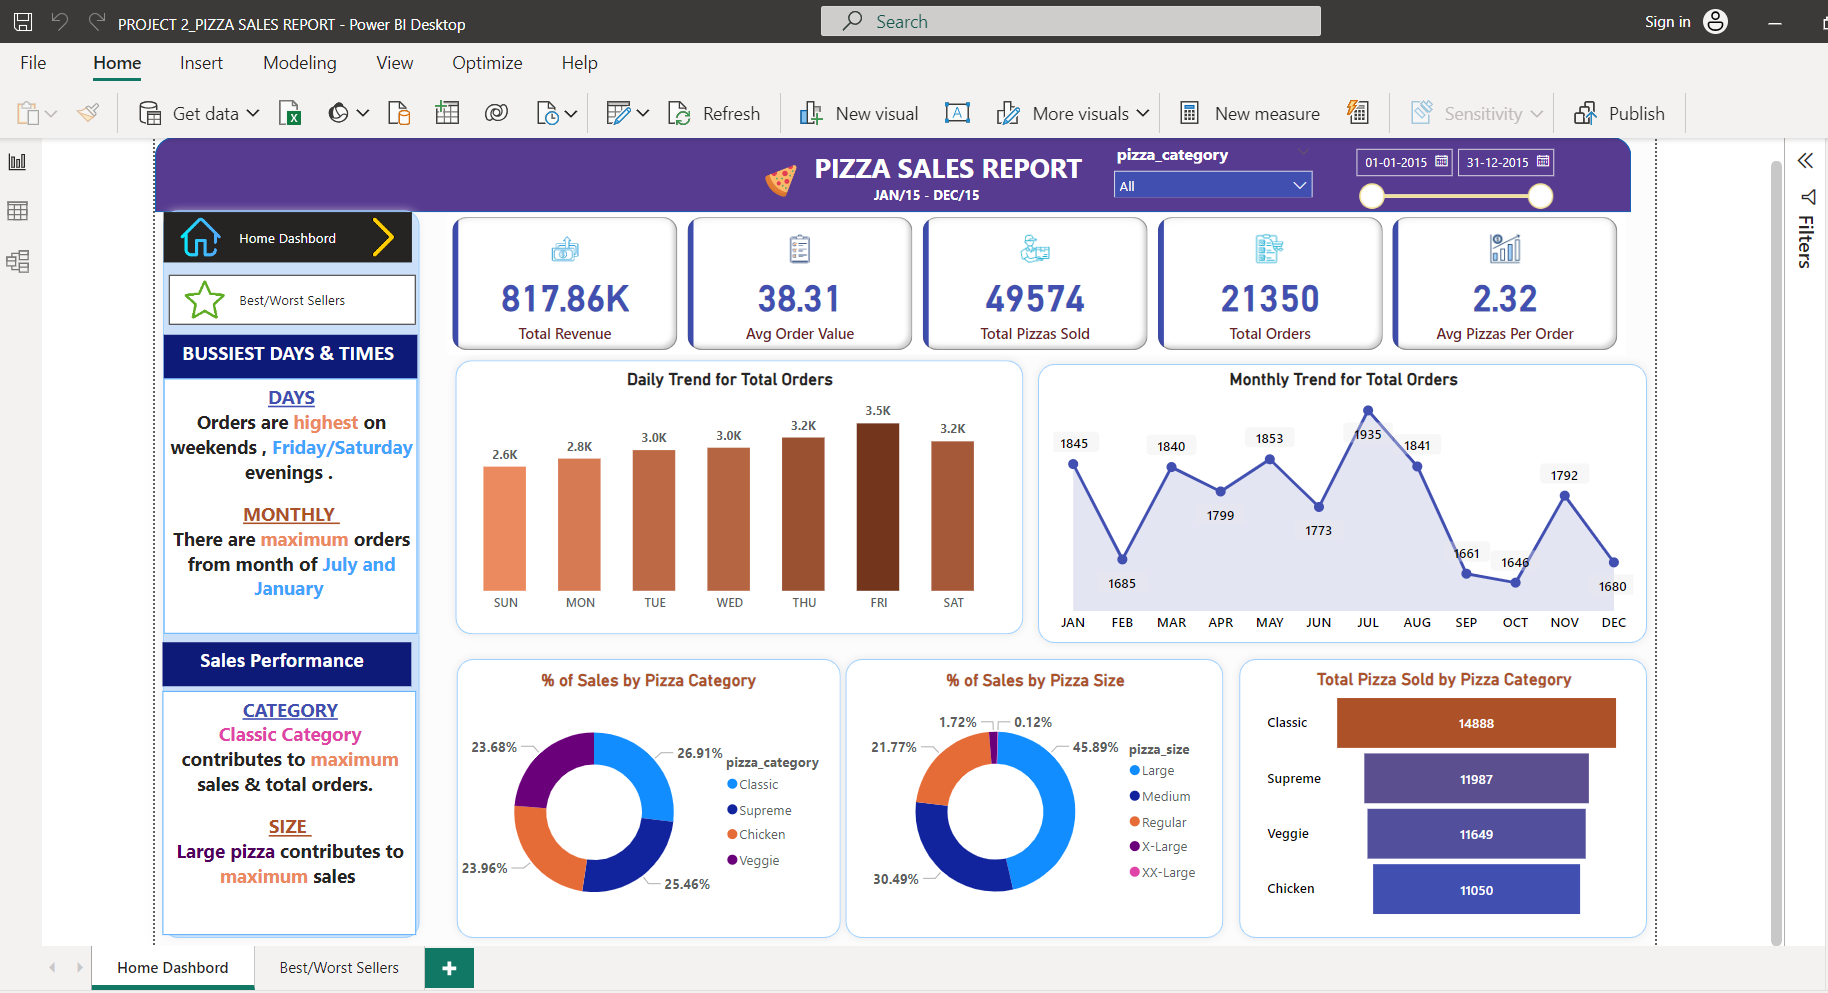

Layout of this report page (visuals, bound fields, positions):
{"tool":"powerbi","page":{"name":"Home Dashbord","canvas":[1500,820],"ordinal":0},"visuals":[{"type":"cardVisual","fields":{"Data":["project pizza_sales.Total Revenue","project pizza_sales.Avg Order Value","project pizza_sales.Total Pizzas Sold","project pizza_sales.Total Orders","project pizza_sales.Avg Pizzas Per Order"]},"box":[292.8,86.7,1178.3,143.4],"z":0},{"type":"shape","box":[0,11.2,1476.2,75],"z":1000},{"type":"textbox","box":[645,18.8,303.8,50],"z":2000},{"type":"textbox","box":[713.8,55,130,31.2],"z":3000},{"type":"image","box":[597.5,33.8,56.2,42.5],"z":4000},{"type":"shape","box":[292.5,226.2,583.8,290],"z":5000},{"type":"columnChart","title":"Daily Trend for Total Orders","fields":{"Category":["project pizza_sales.Order Day"],"Y":["project pizza_sales.Total Orders"]},"box":[293.8,242.5,562.5,252.5],"z":6000},{"type":"shape","box":[875,230,625,295],"z":7000},{"type":"areaChart","title":"Monthly Trend for Total Orders ","fields":{"Category":["project pizza_sales.Order Month"],"Y":["project pizza_sales.Total Orders"]},"box":[893.8,242.5,590,273.8],"z":8000},{"type":"shape","box":[293.8,525,400,295],"z":9000},{"type":"shape","box":[0,76.2,272.5,743.8],"z":10000},{"type":"shape","box":[682.5,525,393.8,295],"z":11000},{"type":"shape","box":[1076.2,525,423.8,295],"z":12000},{"type":"donutChart","title":"% of Sales by Pizza Category ","fields":{"Category":["project pizza_sales.pizza_category"],"Y":["project pizza_sales.Total Revenue"]},"box":[302.5,543.8,382.5,266.2],"z":13000},{"type":"donutChart","title":"% of Sales by Pizza Size","fields":{"Category":["project pizza_sales.pizza_size"],"Y":["project pizza_sales.Total Revenue"]},"box":[702.5,543.8,356.2,265],"z":14000},{"type":"funnel","title":"Total Pizza Sold by Pizza Category ","fields":{"Category":["project pizza_sales.pizza_category"],"Y":["project pizza_sales.Total Pizzas Sold"]},"box":[1107.5,542.5,363.8,256.2],"z":15000},{"type":"textbox","box":[8.8,208.8,253.8,43.8],"z":16000},{"type":"textbox","box":[8.8,252.5,253.8,255],"z":17000},{"type":"textbox","box":[7.5,516.2,248.8,43.8],"z":18000},{"type":"textbox","box":[7.5,565,253.8,243.8],"z":19000},{"type":"slicer","fields":{"Values":["project pizza_sales.pizza_category"]},"box":[948.8,11.2,218.8,60],"z":20000},{"type":"slicer","fields":{"Values":["project pizza_sales.order_date"]},"box":[1189,12,218,74],"z":21000},{"type":"pageNavigator","box":[8.8,86.2,248.8,50],"z":22000},{"type":"pageNavigator","box":[13.8,148.8,247.5,50],"z":23000},{"type":"image","box":[201.2,86.2,55,50],"z":24000},{"type":"image","box":[13.8,86.2,63.8,50],"z":25000},{"type":"image","box":[13.8,148.8,71.2,50],"z":26000}]}

Visuals, with their boxes on the page's 1500x820 design canvas (x1, y1, x2, y2). These are canvas units, not pixel positions in the 1828x993 screenshot, which may show the page scaled, cropped or inside an application window:
cardVisual - project pizza_sales.Total Revenue x project pizza_sales.Avg Order Value: box=[293, 87, 1471, 230]
shape: box=[0, 11, 1476, 86]
textbox: box=[645, 19, 949, 69]
textbox: box=[714, 55, 844, 86]
image: box=[598, 34, 654, 76]
shape: box=[292, 226, 876, 516]
"Daily Trend for Total Orders" columnChart: box=[294, 242, 856, 495]
shape: box=[875, 230, 1500, 525]
"Monthly Trend for Total Orders " areaChart: box=[894, 242, 1484, 516]
shape: box=[294, 525, 694, 820]
shape: box=[0, 76, 272, 820]
shape: box=[682, 525, 1076, 820]
shape: box=[1076, 525, 1500, 820]
"% of Sales by Pizza Category " donutChart: box=[302, 544, 685, 810]
"% of Sales by Pizza Size" donutChart: box=[702, 544, 1059, 809]
"Total Pizza Sold by Pizza Category " funnel: box=[1108, 542, 1471, 799]
textbox: box=[9, 209, 263, 253]
textbox: box=[9, 252, 263, 508]
textbox: box=[8, 516, 256, 560]
textbox: box=[8, 565, 261, 809]
slicer - project pizza_sales.pizza_category: box=[949, 11, 1168, 71]
slicer - project pizza_sales.order_date: box=[1189, 12, 1407, 86]
pageNavigator: box=[9, 86, 258, 136]
pageNavigator: box=[14, 149, 261, 199]
image: box=[201, 86, 256, 136]
image: box=[14, 86, 78, 136]
image: box=[14, 149, 85, 199]
